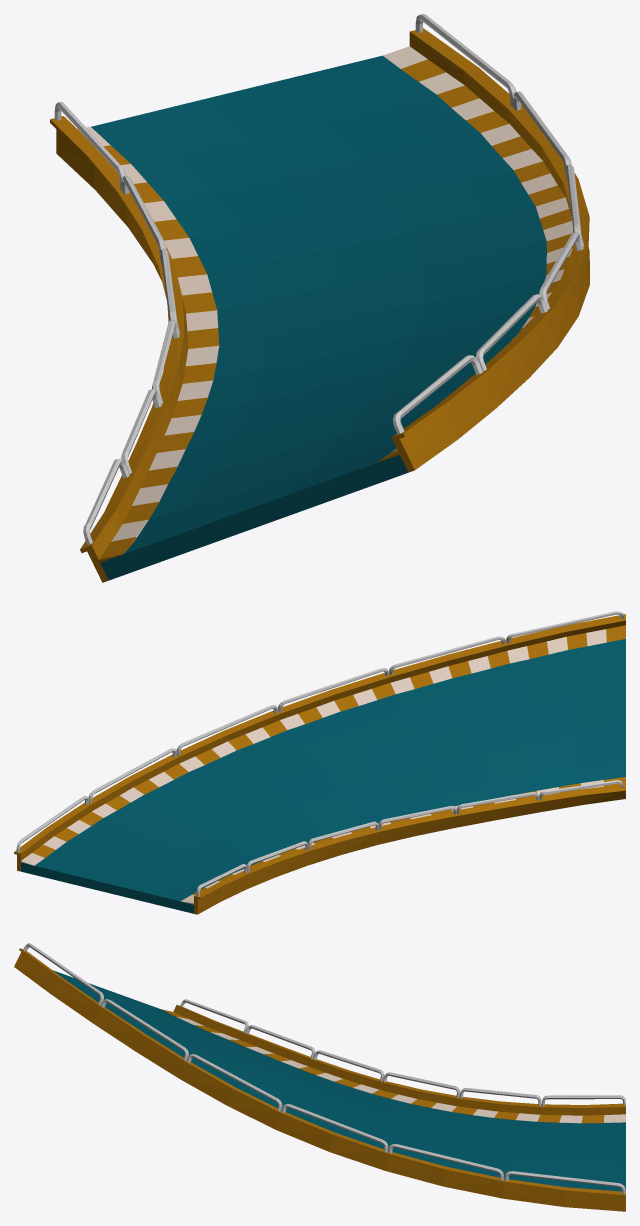
File: curveRight-60-Banked-30.FBX
3 views of the same model, one above another, from view 1: azimuth 30°, elevation 25°; view 2: azimuth 150°, elevation 25°; view 3: azimuth 270°, elevation 25° (orthographic). The views are drawn at different scales.
Parts seen in each view (by area): view 1: curveRight-60-banked-30, wall_l, wall_r, curbs_r, curbs_l; view 2: curveRight-60-banked-30, wall_l, wall_r, curbs_l, curbs_r; view 3: curveRight-60-banked-30, wall_l, wall_r, curbs_r.
Boxes of the visible parts, x1,y1,x2,y2 form: curveRight-60-banked-30: [91, 55, 546, 580]; wall_l: [391, 14, 589, 472]; wall_r: [50, 102, 187, 582]; curbs_r: [77, 127, 219, 562]; curbs_l: [377, 46, 572, 462]; curveRight-60-banked-30: [21, 639, 625, 913]; wall_l: [14, 611, 625, 871]; wall_r: [194, 780, 625, 914]; curbs_l: [21, 625, 625, 865]; curbs_r: [180, 777, 625, 904]; curveRight-60-banked-30: [53, 970, 625, 1191]; wall_l: [14, 943, 625, 1211]; wall_r: [173, 999, 625, 1115]; curbs_r: [161, 1009, 625, 1123].
Size of what is drawn, in the model's own units: 434 by 131 by 583.
